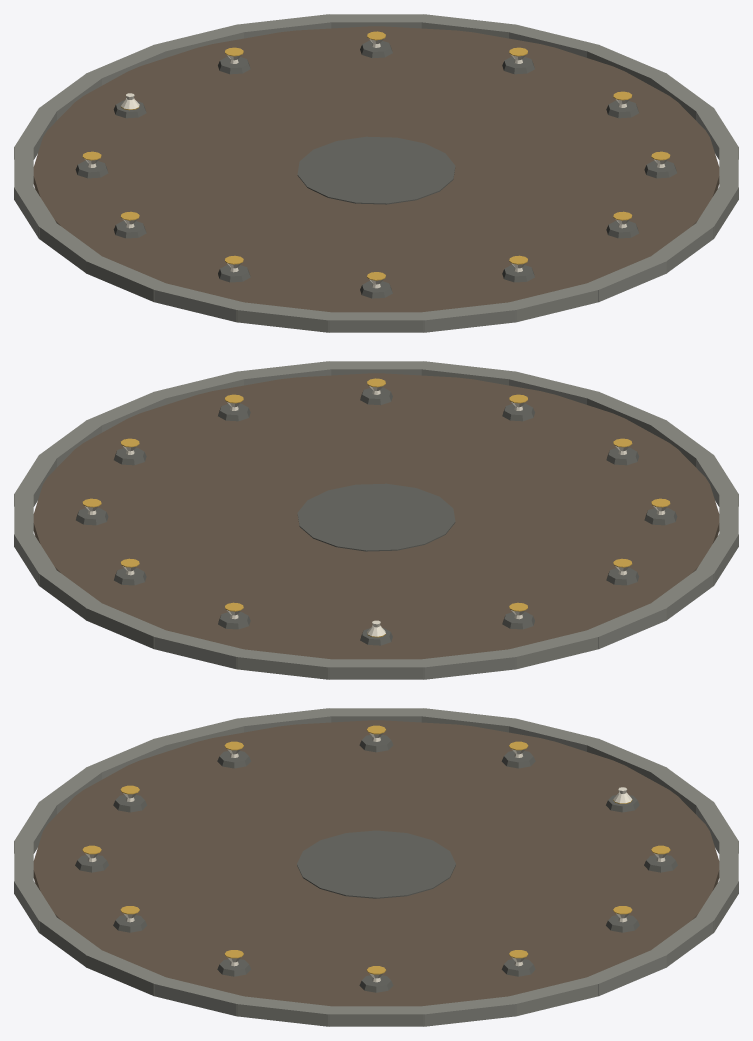
Rendered from prop_gut_floor.glb.
The picture shows the model from 3 angles, top to bottom: view 1: azimuth 30°, elevation 25°; view 2: azimuth 150°, elevation 25°; view 3: azimuth 270°, elevation 25°; orthographic projection.
Parts seen in each view (by area): view 1: Floor; view 2: Floor; view 3: Floor.
Part boxes in pixels (bbox=[...]): Floor: bbox=[14, 14, 738, 332]; Floor: bbox=[14, 361, 738, 679]; Floor: bbox=[14, 708, 738, 1026].
Size of the model in its own units: 12.75 by 0.475 by 12.75.
